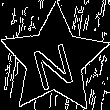N_N: (29, 30, 80, 90)
